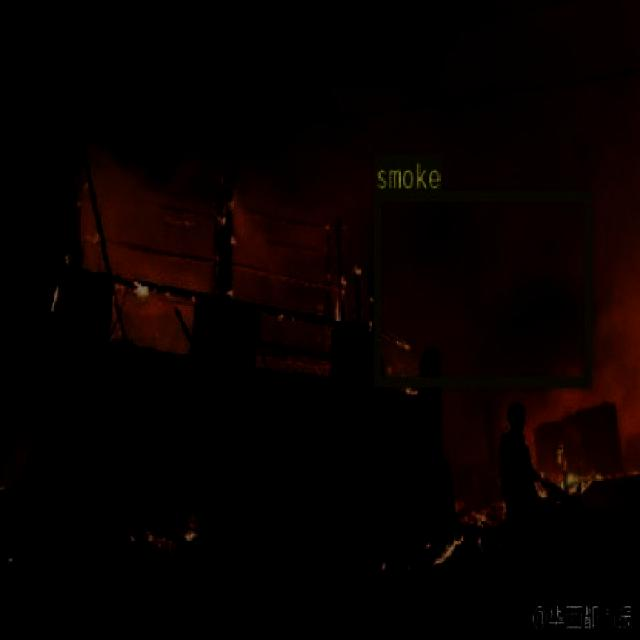smoke: (373, 188, 590, 386)
